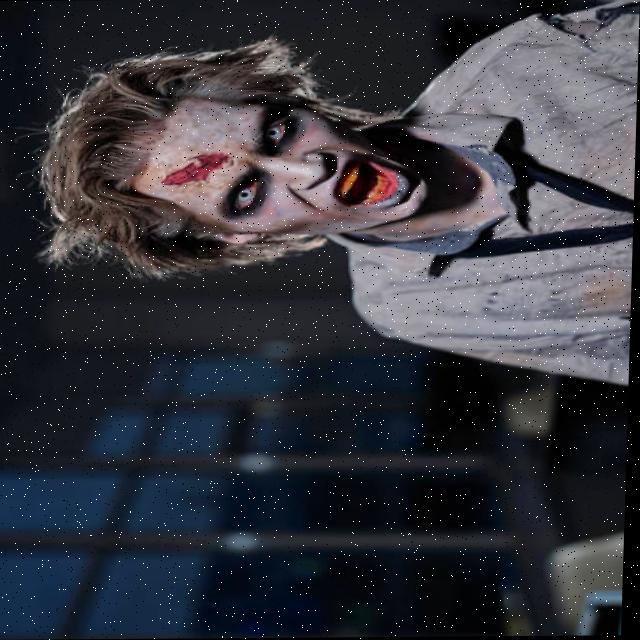Zombie: (54, 97, 456, 253)
